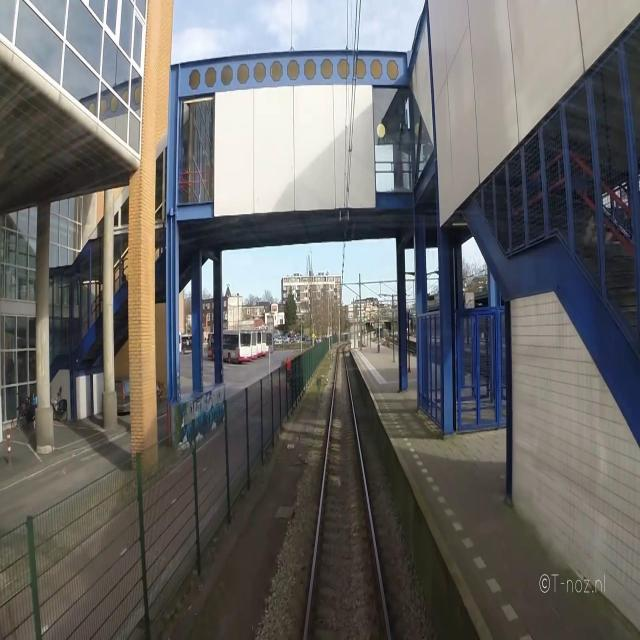rail-track: (308, 348, 386, 639)
